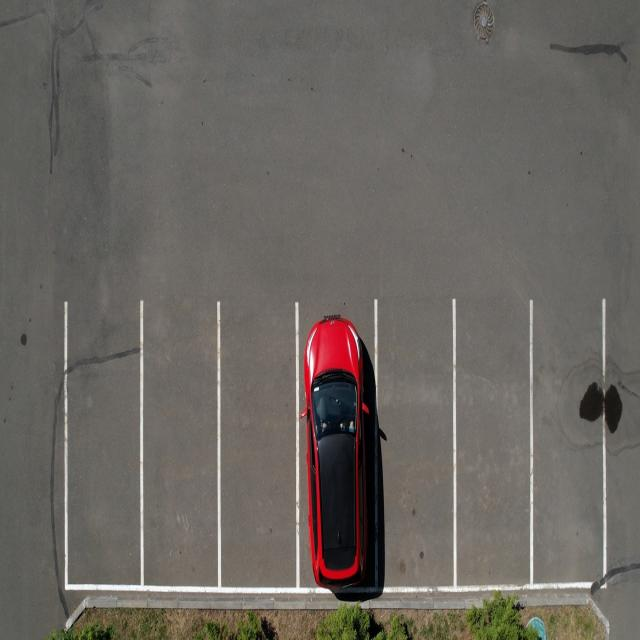space-empty: (139, 298, 221, 588), (452, 298, 534, 588), (218, 301, 300, 588), (377, 293, 457, 586), (63, 302, 144, 590), (528, 297, 608, 586)
space-occupied: (297, 301, 377, 586)
